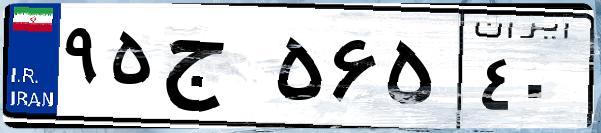0: (525, 38, 570, 115)
4: (475, 38, 525, 113)
5: (270, 28, 330, 110), (385, 28, 445, 110), (110, 28, 158, 98)
6: (330, 28, 385, 110)
9: (57, 26, 110, 100)
ج: (158, 20, 270, 120)
